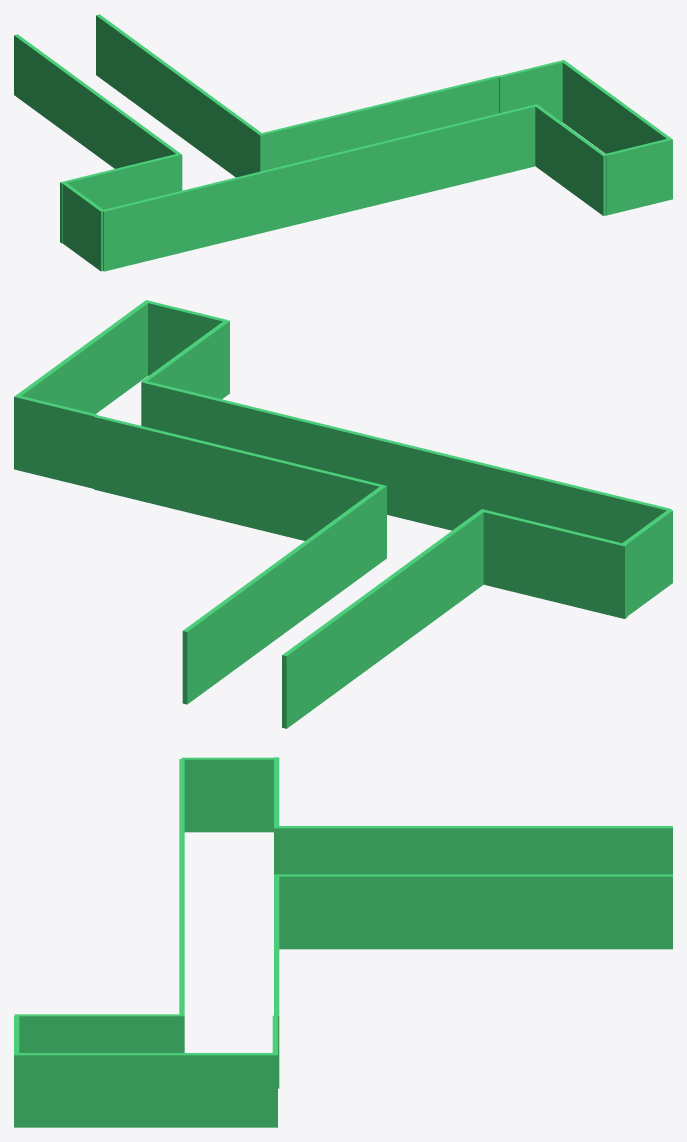
Rendered from maze.dae.
3 renders of one model, top to bottom at view 1: azimuth 30°, elevation 25°; view 2: azimuth 150°, elevation 25°; view 3: azimuth 270°, elevation 25°, orthographic. The views are drawn at different scales.
Visible parts, largest first — view 1: maze; view 2: maze; view 3: maze.
Boxes of the visible parts, <box> form: maze: <box>14,14,672,271</box>; maze: <box>14,300,672,728</box>; maze: <box>14,757,672,1127</box>.
Size of the model in its own units: 5.29 by 4.94 by 0.6.
